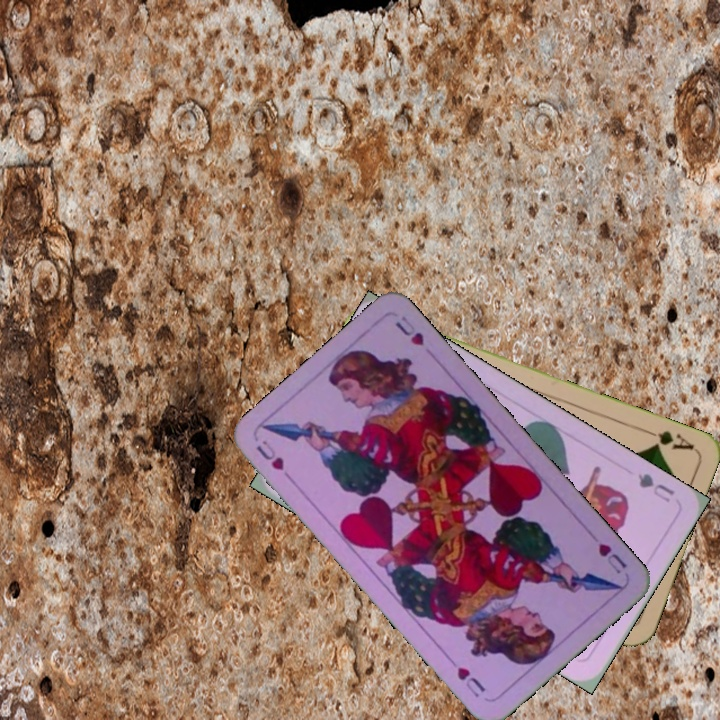GA: (639, 424, 697, 453)
GU: (633, 469, 677, 505)
HU: (594, 539, 630, 577), (252, 436, 287, 474)
